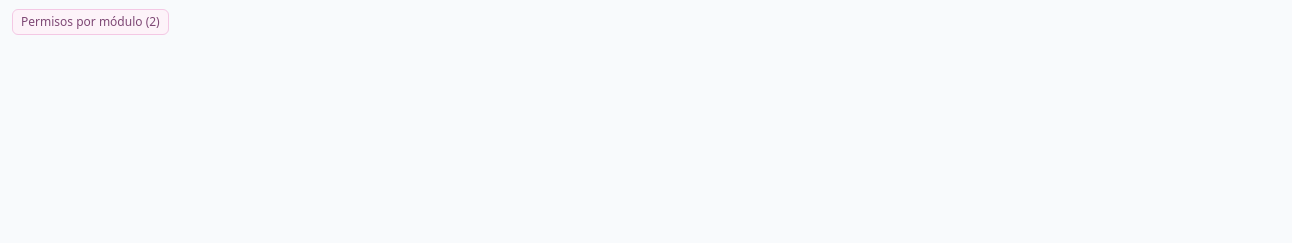
Test: PermissionsPanel (permisos por módulo) › muestra una tarjeta por módulo con una casilla por acción, marcadas según los permisos actuales
Click the button "Permisos por módulo (2)".
click(90, 22)  # box [12,9,169,35]
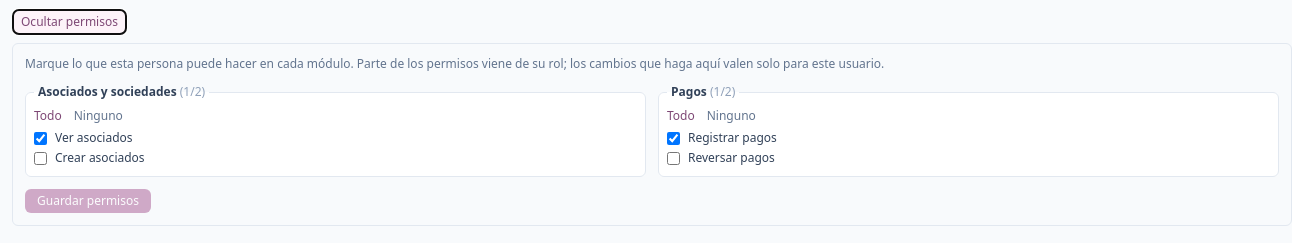
Expected: the text "Asociados y sociedades" is shown, [38,83,177,100]
Expected: the text "Pagos" is shown, [671,83,707,100]
Expected: the checkbox labelled "Ver asociados" is checked, [34,132,47,145]
